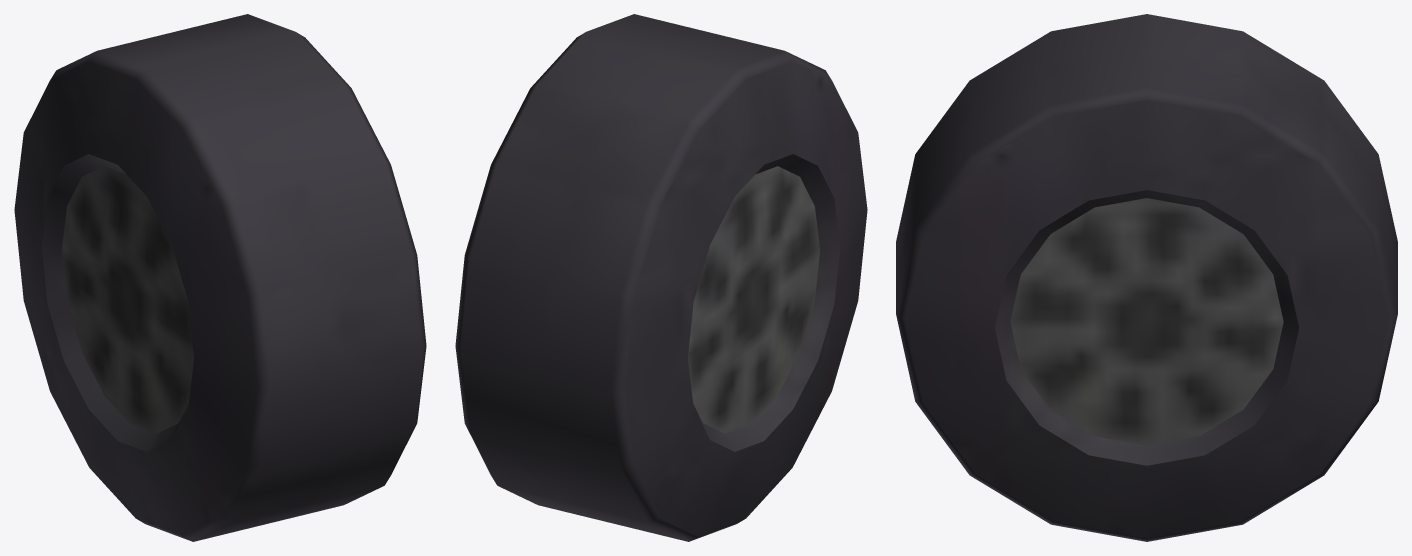
The picture shows the model from 3 angles, left to right: view 1: azimuth 30°, elevation 25°; view 2: azimuth 150°, elevation 25°; view 3: azimuth 270°, elevation 25°; orthographic projection.
Parts seen in each view (by area): view 1: SM_luntai; view 2: SM_luntai; view 3: SM_luntai.
Boxes of the visible parts, x1,y1,x2,y2 form: SM_luntai: (14, 14, 426, 541); SM_luntai: (455, 14, 867, 541); SM_luntai: (896, 14, 1397, 541).
Bounding box in the file's own units: 0.5753 × 1.22 × 1.22.
1 material, 1 textured.
